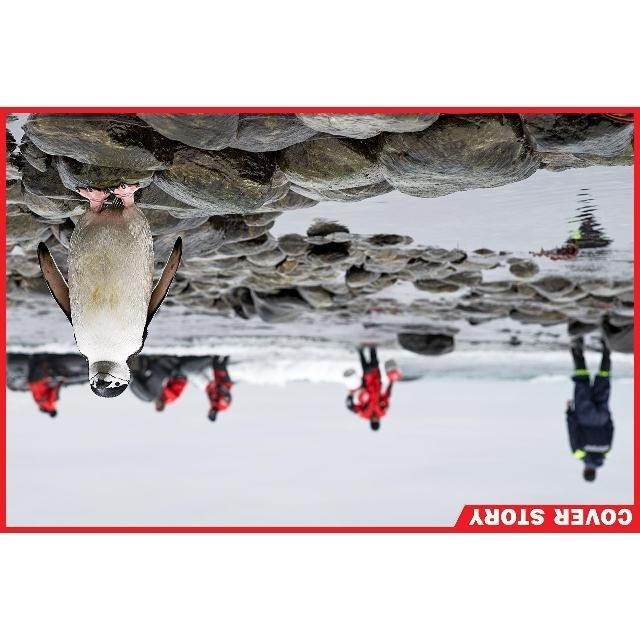penguin: (37, 182, 184, 397)
